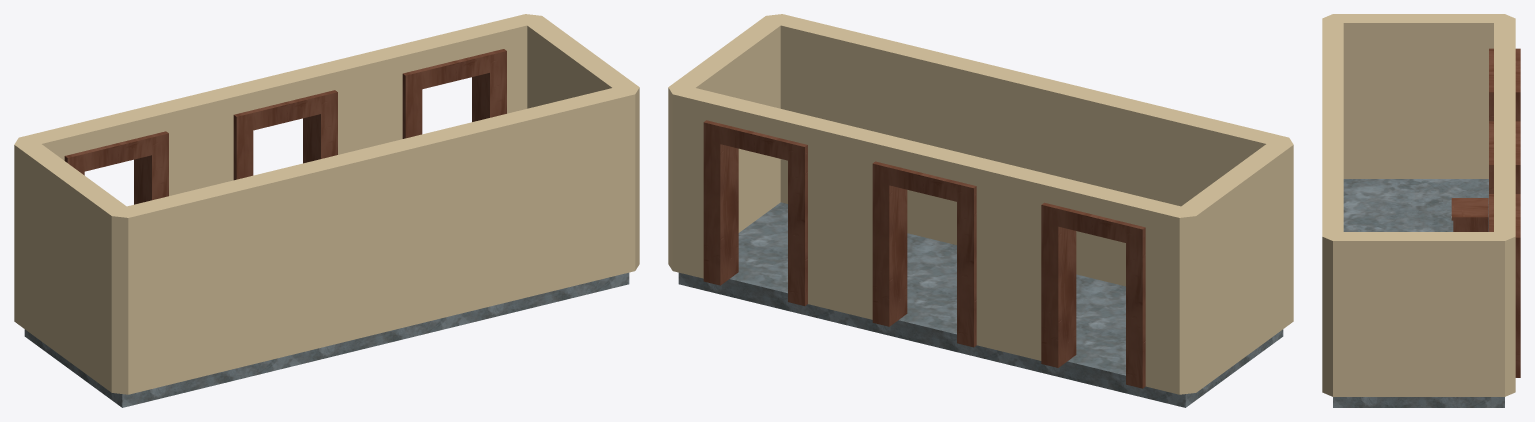
The model's file is Level_2_1.fbx.
The picture shows the model from 3 angles, left to right: view 1: azimuth 30°, elevation 25°; view 2: azimuth 150°, elevation 25°; view 3: azimuth 270°, elevation 25°; orthographic projection. The views are drawn at different scales.
Visible parts, largest first — view 1: mergedBlocks; view 2: mergedBlocks; view 3: mergedBlocks.
Boxes of the visible parts, x1,y1,x2,y2 form: mergedBlocks: [14, 14, 639, 407]; mergedBlocks: [668, 14, 1293, 407]; mergedBlocks: [1322, 14, 1520, 407].
Bounding box in the file's own units: 62.5 × 22 × 23.1.
5 materials, 2 textured.
